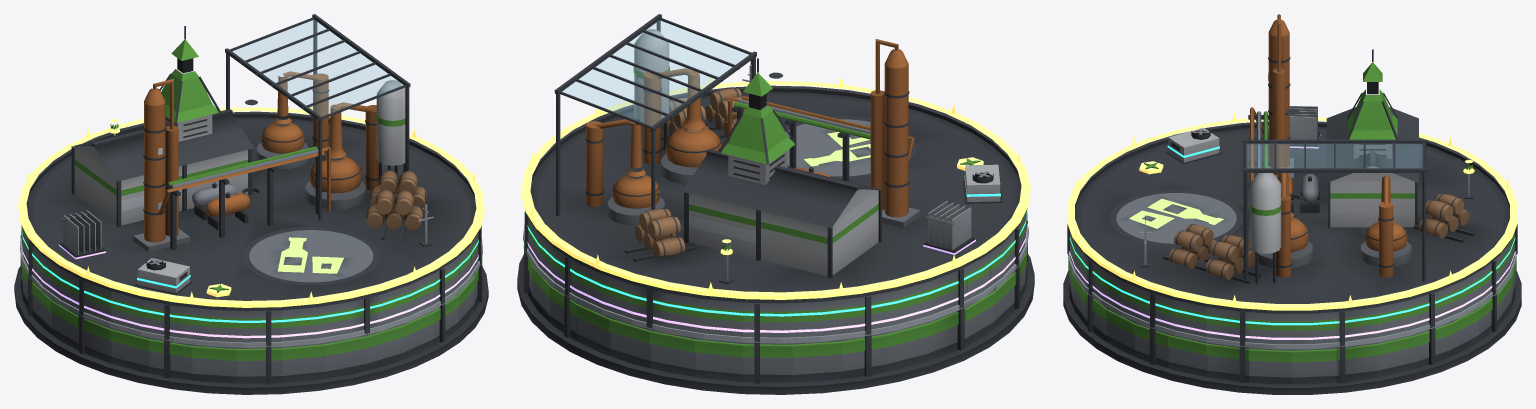
The model's file is distillery_m_far.glb.
3 renders of one model, left to right at view 1: azimuth 30°, elevation 25°; view 2: azimuth 150°, elevation 25°; view 3: azimuth 270°, elevation 25°, orthographic. The views are drawn at different scales.
Visible parts, largest first — view 1: Roof, Base, L5, L2, L4, L3; view 2: Roof, Base, L5, L4, L2, L3; view 3: Roof, Base, L5, L2, L3, L4.
Part boxes in pixels (x1,y1,x2,y2): Roof: (21,14,481,346); Base: (14,235,488,394); L5: (18,106,484,307); L2: (20,192,482,347); L4: (21,210,481,338); L3: (21,187,481,322); Roof: (524,14,1027,341); Base: (517,220,1034,394); L5: (521,76,1030,299); L4: (524,201,1027,332); L2: (523,60,1028,343); L3: (524,164,1027,316); Roof: (1067,14,1517,345); Base: (1063,254,1521,394); L5: (1067,112,1517,310); L2: (1068,215,1516,349); L3: (1069,128,1515,325); L4: (1069,106,1515,339).
Size of the model in its own units: 14.75 by 8.43 by 14.75.
